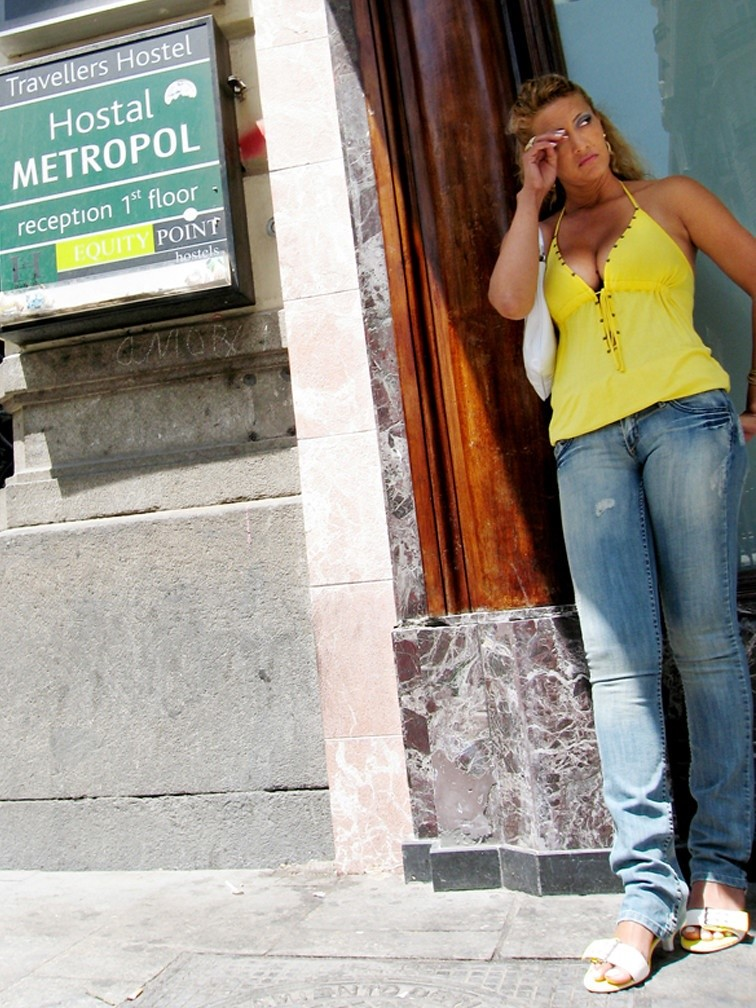face_no_mask: (511, 79, 612, 177)
